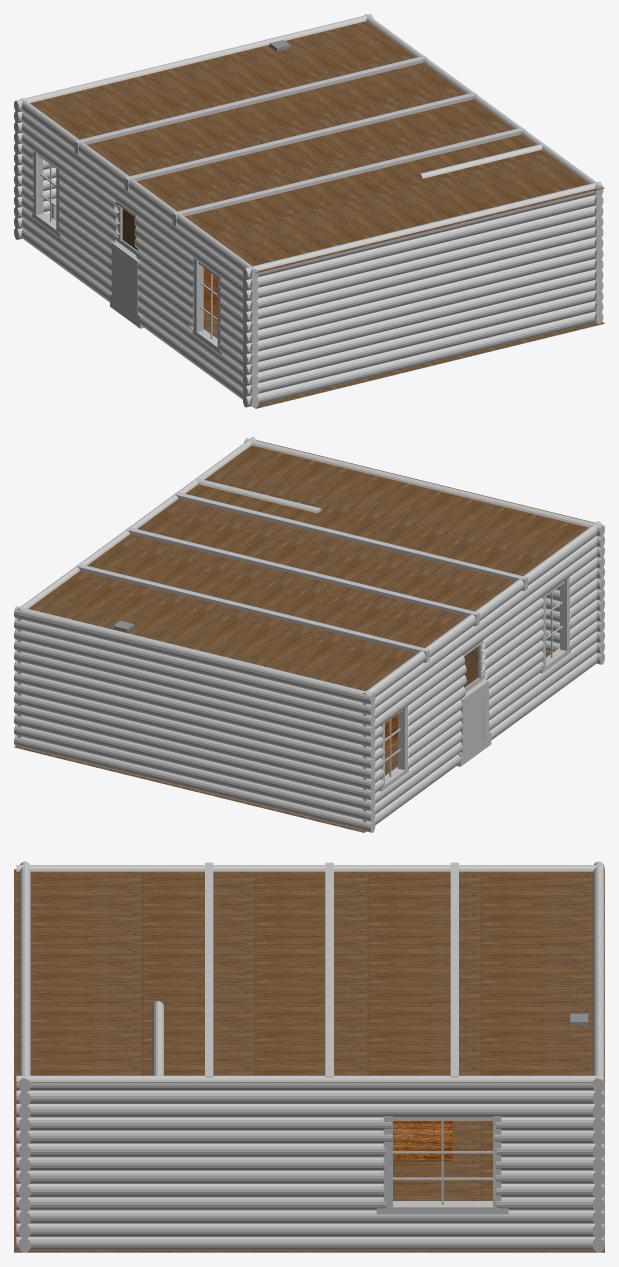
File: chalet.fbx
3 renders of one model, top to bottom at view 1: azimuth 30°, elevation 25°; view 2: azimuth 150°, elevation 25°; view 3: azimuth 270°, elevation 25°, orthographic. The views are drawn at different scales.
Parts seen in each view (by area): view 1: murD, Plane.001, Plane, tapis; view 2: murD, Plane.001, Plane; view 3: murD, Plane.001, Plane, tapis.
Part boxes in pixels (left/top/right/bottom): murD: left=14, top=14, right=603, bottom=407; Plane.001: left=30, top=21, right=604, bottom=273; Plane: left=203, top=308, right=604, bottom=408; tapis: left=203, top=268, right=217, bottom=317; murD: left=14, top=437, right=604, bottom=832; Plane.001: left=15, top=440, right=595, bottom=696; Plane: left=14, top=651, right=550, bottom=832; murD: left=16, top=861, right=604, bottom=1252; Plane.001: left=14, top=869, right=604, bottom=1082; Plane: left=14, top=1083, right=604, bottom=1252; tapis: left=393, top=1121, right=452, bottom=1161.
Size of the model in its own units: 1070 by 405 by 1230.
